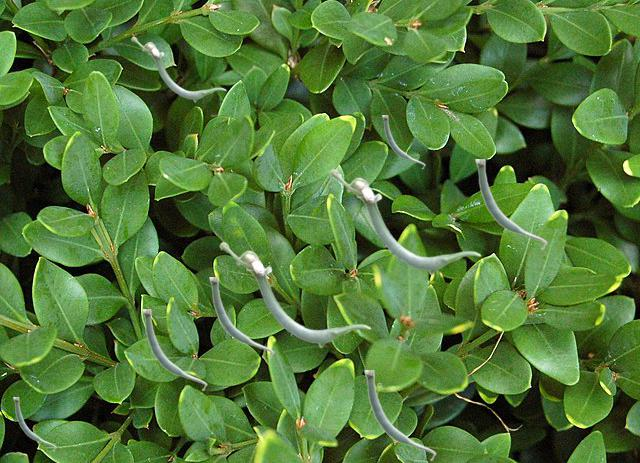french_bean: (219, 241, 370, 347), (329, 168, 480, 274), (475, 159, 546, 249), (364, 370, 435, 460), (131, 36, 225, 101), (209, 277, 273, 358), (142, 309, 206, 390), (382, 115, 424, 168), (13, 397, 55, 450)
